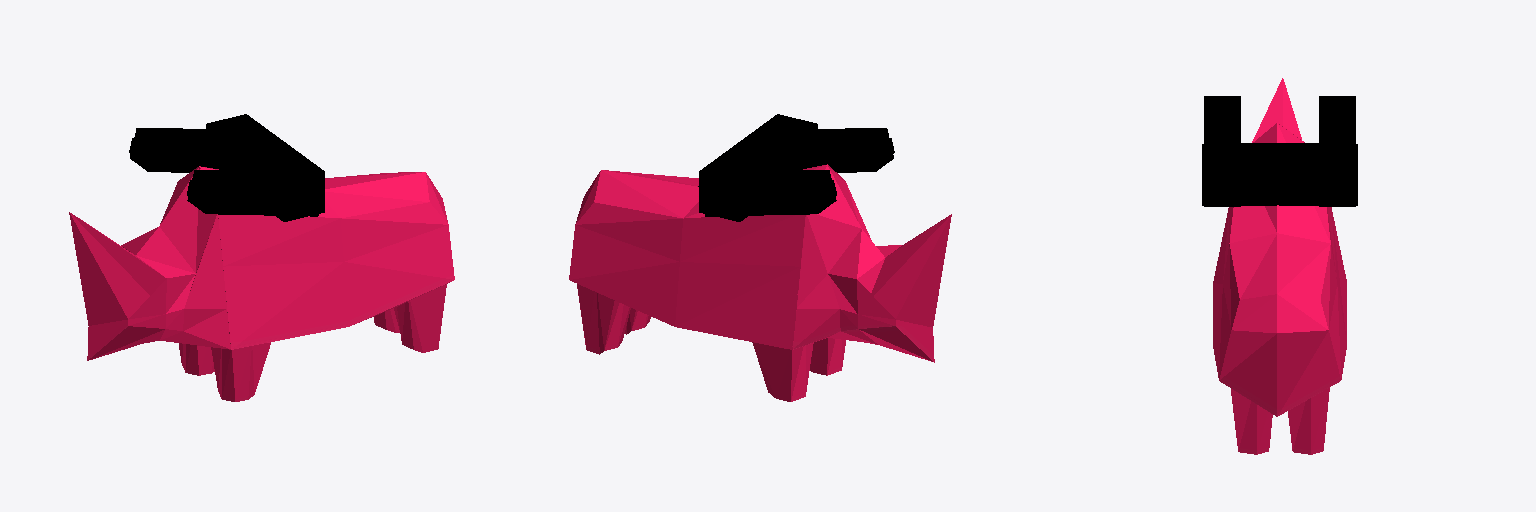
3 renders of one model, left to right at view 1: azimuth 30°, elevation 25°; view 2: azimuth 150°, elevation 25°; view 3: azimuth 270°, elevation 25°, orthographic.
Visible parts, largest first — view 1: pCube1, pCube3, pCube8, pCube9, pCube7, pCube4, pCube5, pCube12, pCube2; view 2: pCube1, pCube3, pCube7, pCube9, pCube8, pCube2, pCube6, pCube12, pCube4; view 3: pCube1, pCube9, pCube12, pCube7, pCube8, pCube6, pCube5, pCube3.
Part boxes in pixels (x1,y1,x2,y2): pCube1: (177,166,454,349); pCube3: (69,167,230,360); pCube8: (187,170,318,216); pCube9: (206,114,324,221); pCube7: (130,128,224,172); pCube4: (211,342,270,401); pCube5: (394,284,446,352); pCube12: (219,118,310,172); pCube2: (179,343,214,375); pCube1: (569,164,845,349); pCube3: (792,165,951,362); pCube7: (698,170,836,216); pCube9: (699,114,817,221); pCube8: (799,128,893,172); pCube2: (752,342,813,401); pCube6: (577,284,630,354); pCube12: (713,118,804,172); pCube4: (810,338,845,375); pCube1: (1213,123,1346,416); pCube9: (1202,144,1357,205); pCube12: (1220,143,1339,161); pCube7: (1319,96,1355,206); pCube8: (1204,96,1240,206); pCube6: (1288,388,1329,454); pCube5: (1231,389,1272,454); pCube3: (1252,78,1304,142).
Size of the model in its own units: 3.19 by 1.98 by 1.17.
2 materials, 1 textured.